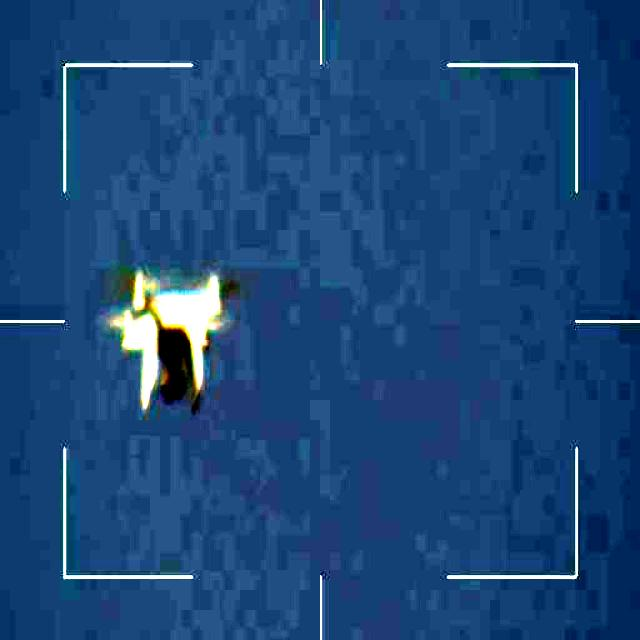bird: (105, 272, 231, 412)
